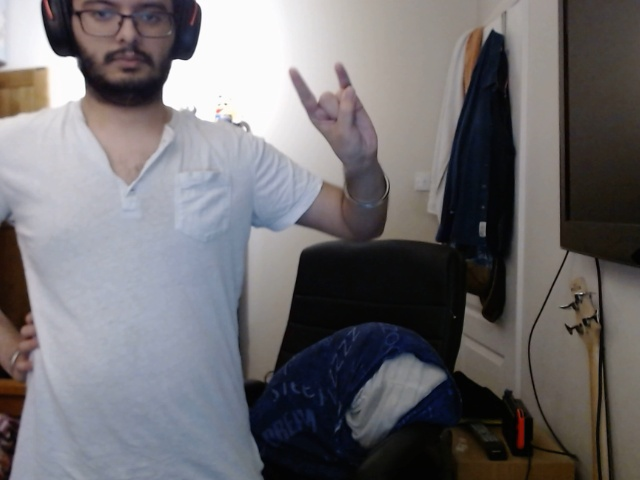Rock on: (282, 50, 387, 163)
